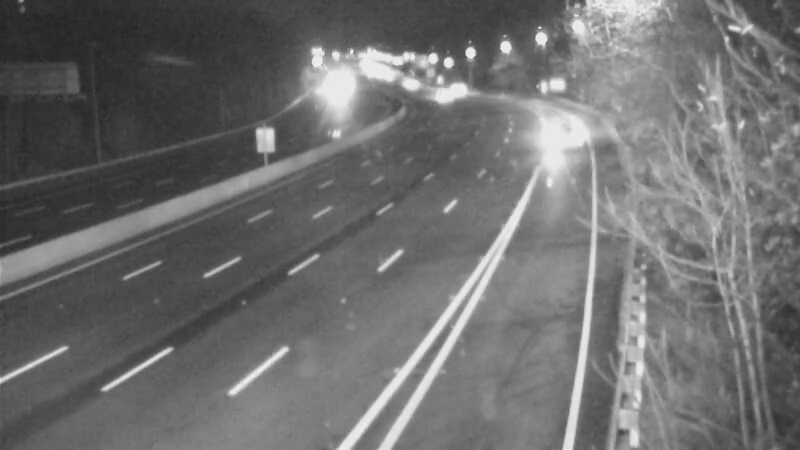vehicle: (414, 70, 464, 120), (537, 103, 587, 153)
